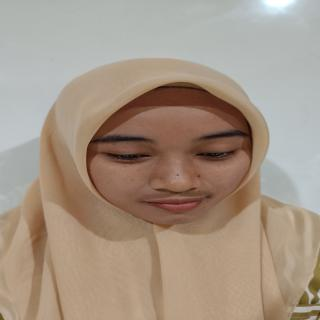Sedih: (84, 87, 272, 236)
